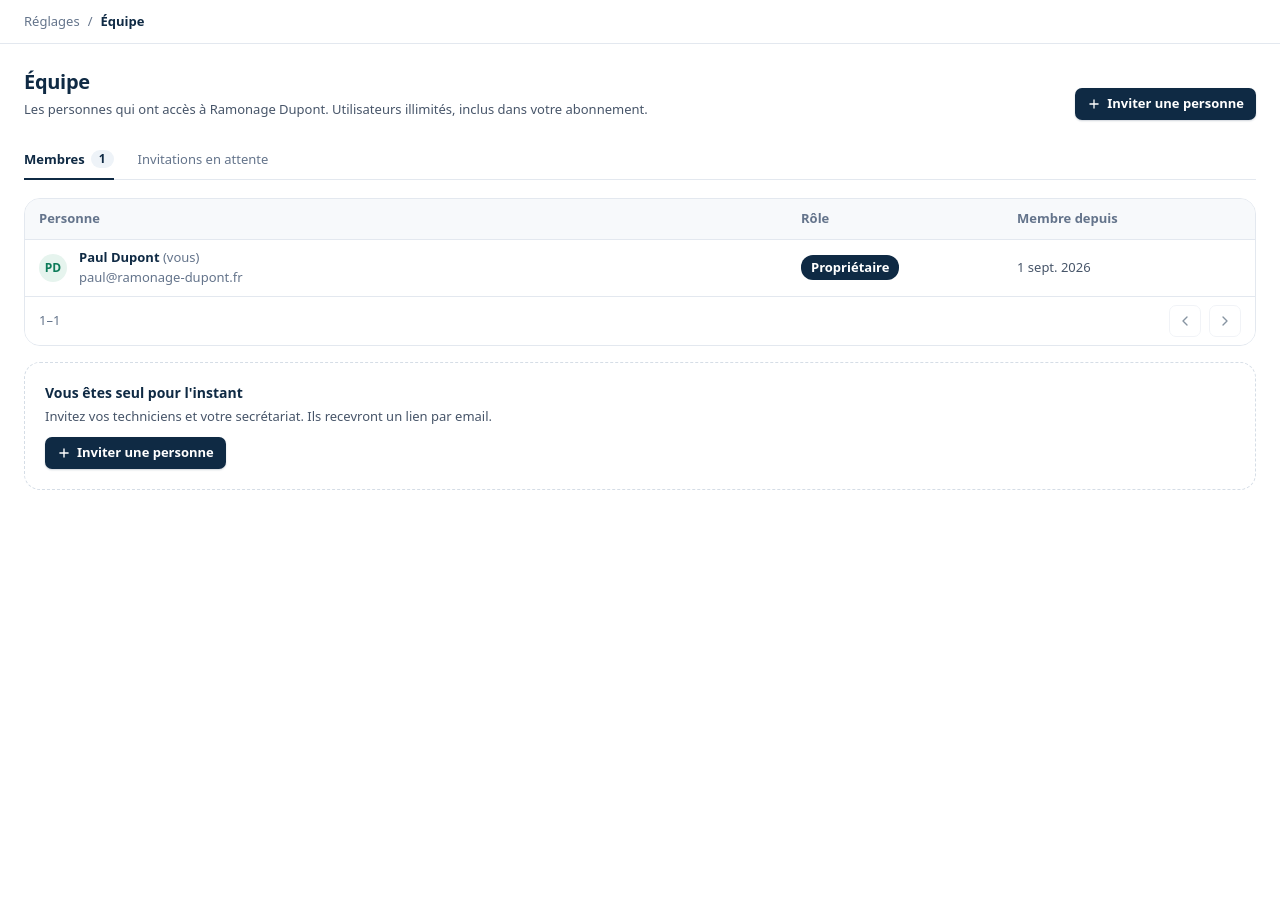
TeamScreen › invites a first person from the empty team
This screenshot has width=1280, height=900.
expect the text "Invitez vos techniciens et votre secrétariat. Ils recevront un lien par email." is shown: met, box 45,407 -> 492,425
Step 1. Click the button "Inviter une personne" below "Vous êtes seul pour l'instant" → (135, 453), box 45,437 -> 226,469
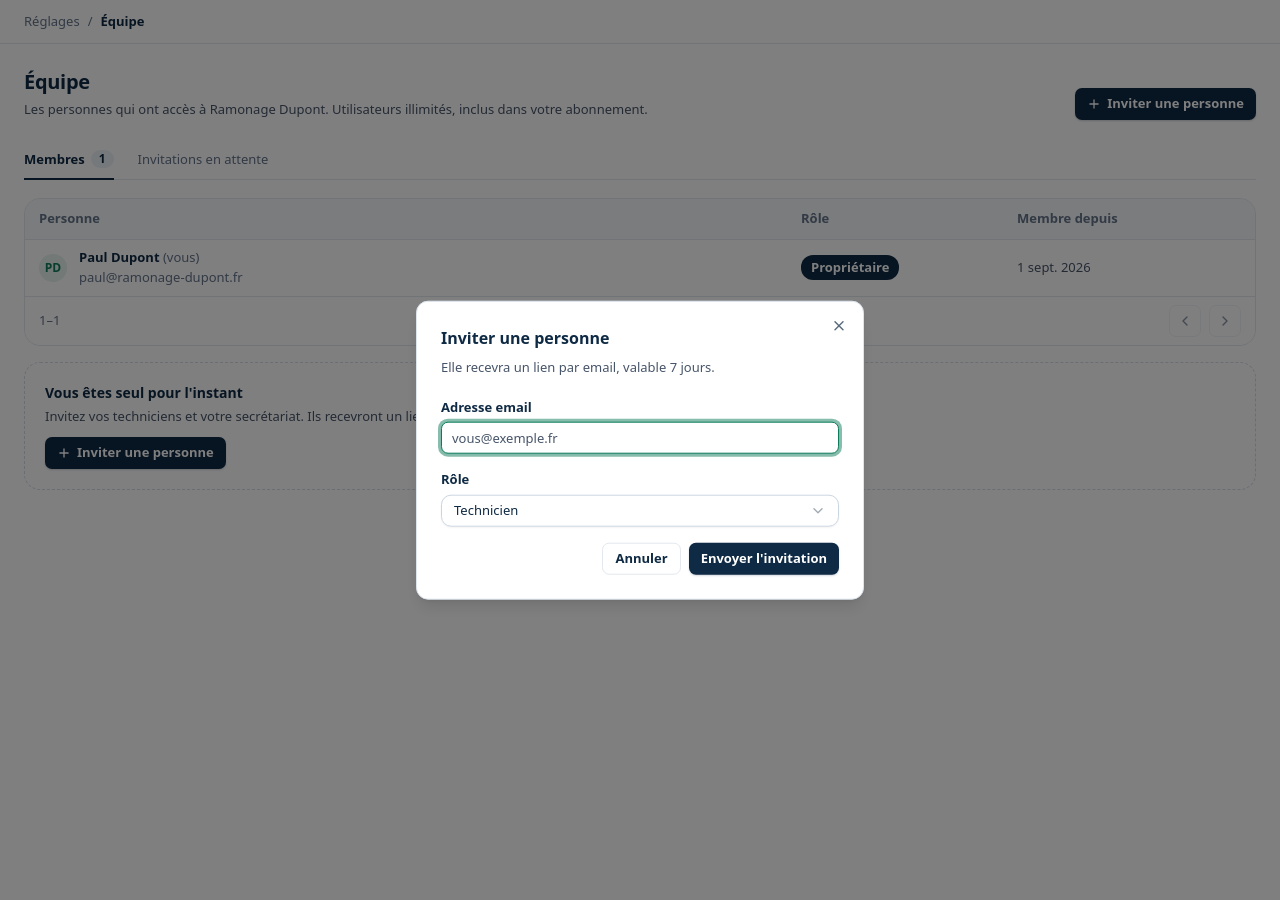
expect the dialog "Inviter une personne" is shown: met, box 416,301 -> 864,599
